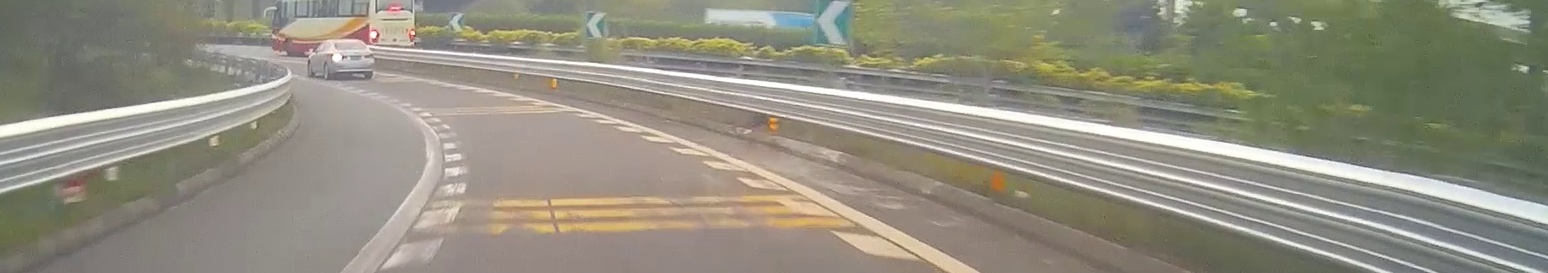L_light: (330, 54, 346, 61)
R_light: (364, 53, 374, 59)
T_light: (345, 42, 353, 44)
day-left: (328, 39, 375, 80)
